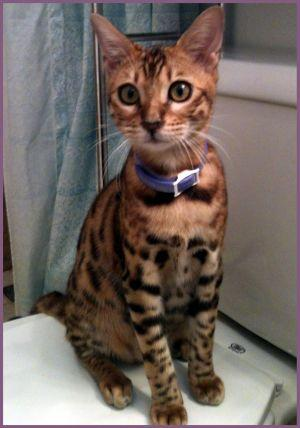bengal: (84, 1, 235, 161)
